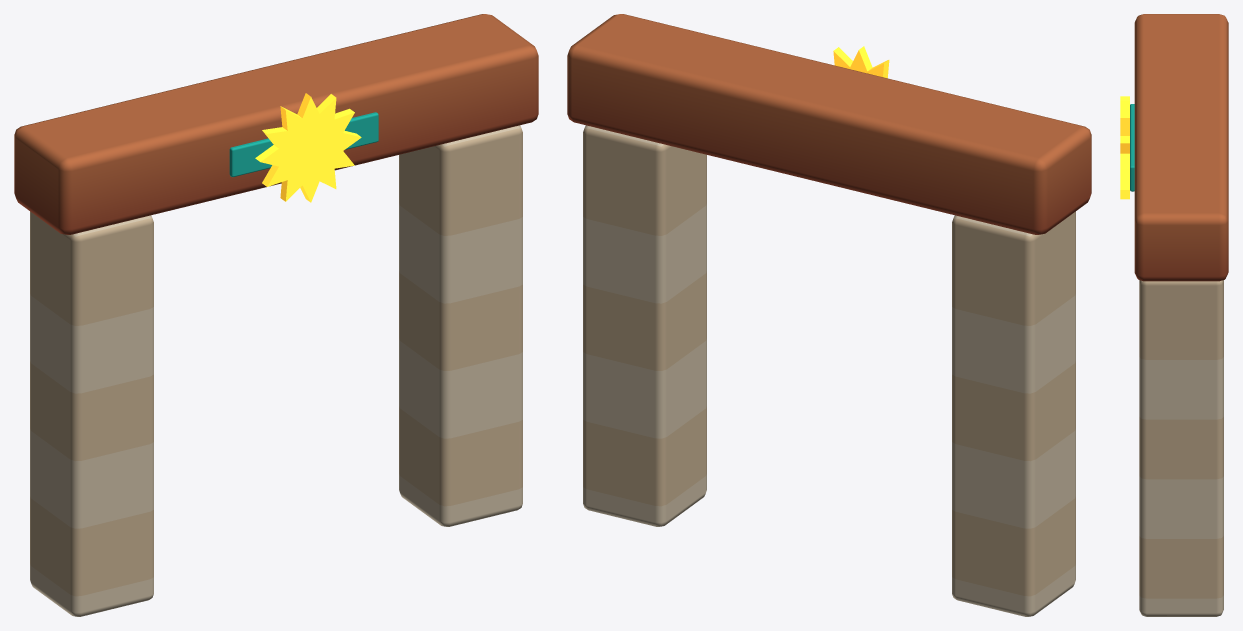
The model's file is ENV_RuinArch.glb.
The picture shows the model from 3 angles, left to right: view 1: azimuth 30°, elevation 25°; view 2: azimuth 150°, elevation 25°; view 3: azimuth 270°, elevation 25°; orthographic projection. The views are drawn at different scales.
Visible parts, largest first — view 1: Arch, Sun; view 2: Arch, Sun; view 3: Arch, Sun.
Boxes of the visible parts, x1,y1,x2,y2 form: Arch: [14, 14, 538, 616]; Sun: [255, 93, 361, 202]; Arch: [567, 14, 1091, 616]; Sun: [833, 46, 889, 78]; Arch: [1130, 14, 1228, 616]; Sun: [1120, 96, 1129, 199].
Size of the model in its own units: 5.2 by 4.95 by 1.15.
